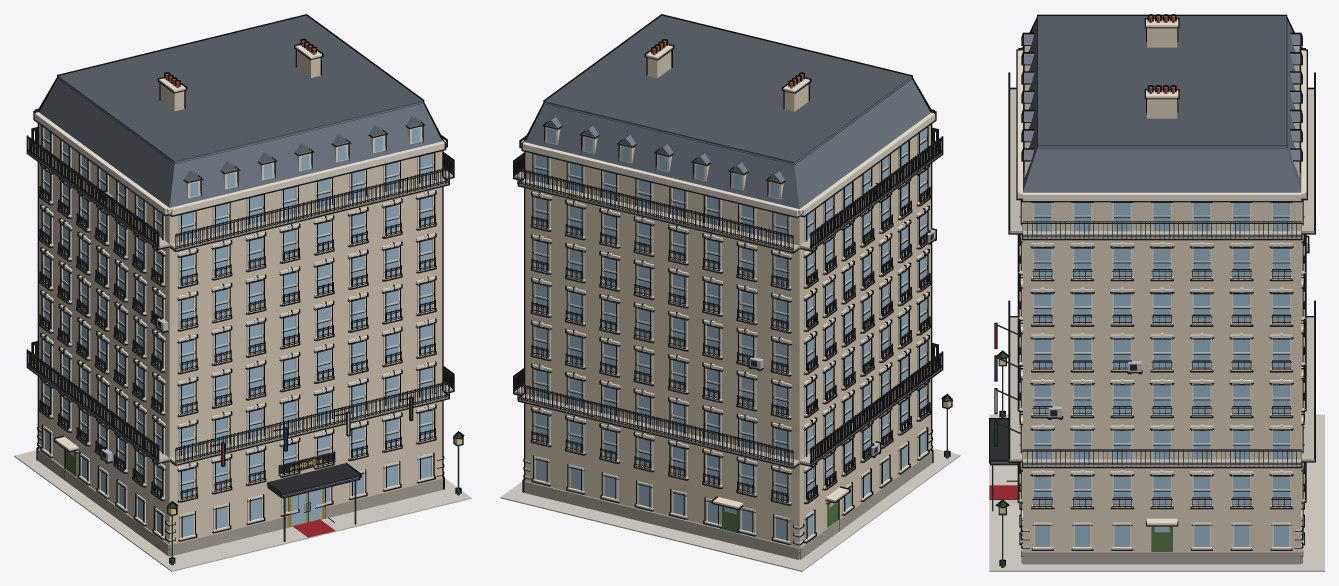
The model's file is Simge_grand_otel.fbx.
3 renders of one model, left to right at view 1: azimuth 30°, elevation 25°; view 2: azimuth 150°, elevation 25°; view 3: azimuth 270°, elevation 25°, orthographic. The views are drawn at different scales.
Visible parts, largest first — view 1: Simge_grand_otel; view 2: Simge_grand_otel; view 3: Simge_grand_otel.
Boxes of the visible parts, x1=… form: Simge_grand_otel: x1=14, y1=14, x2=471, y2=571; Simge_grand_otel: x1=500, y1=14, x2=960, y2=571; Simge_grand_otel: x1=989, y1=14, x2=1324, y2=571.
Size of the model in its own units: 22 by 29.23 by 20.02.
